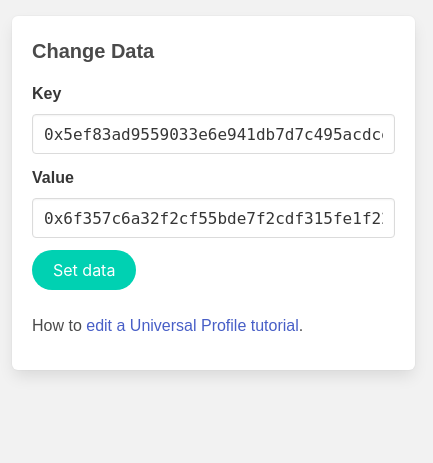
can set data
The width and height of the screenshot is (433, 463).
Click the button with test id "setData". click: point(84, 270)
box: [32,250,136,290]
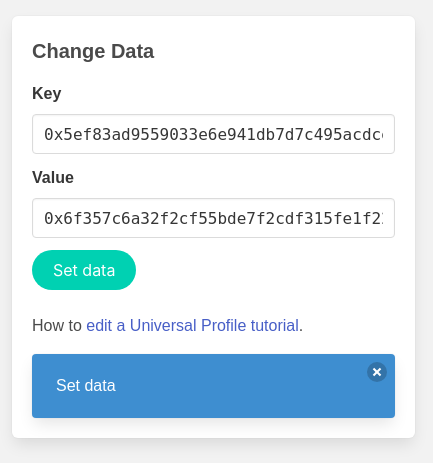
Expected: the element with test id "notification" reads "Set data", [56,377,116,394]
